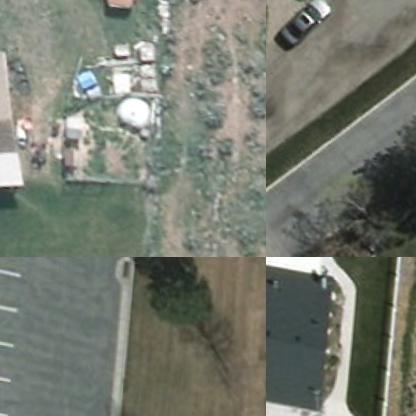car: (275, 0, 335, 54)
